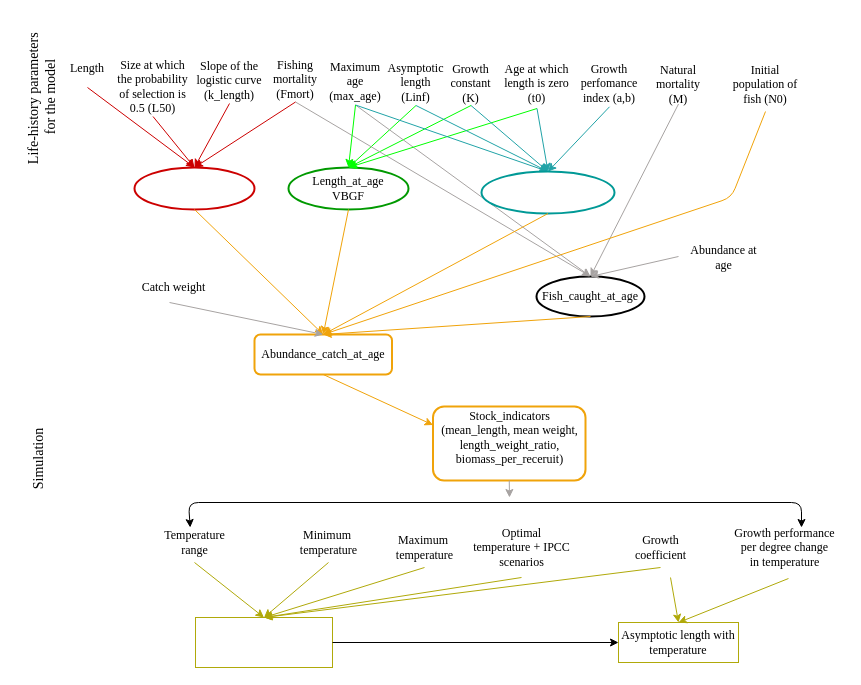
The diagram is 861 pixels wide and 685 high, and some of its shapes have lost their labels. Each missing label, with the centre of its shape:
Growth coefficient with temperature: the point at 263,642
Selectivity_length: the point at 194,188
Weight_at_age VBGF: the point at 547,192
